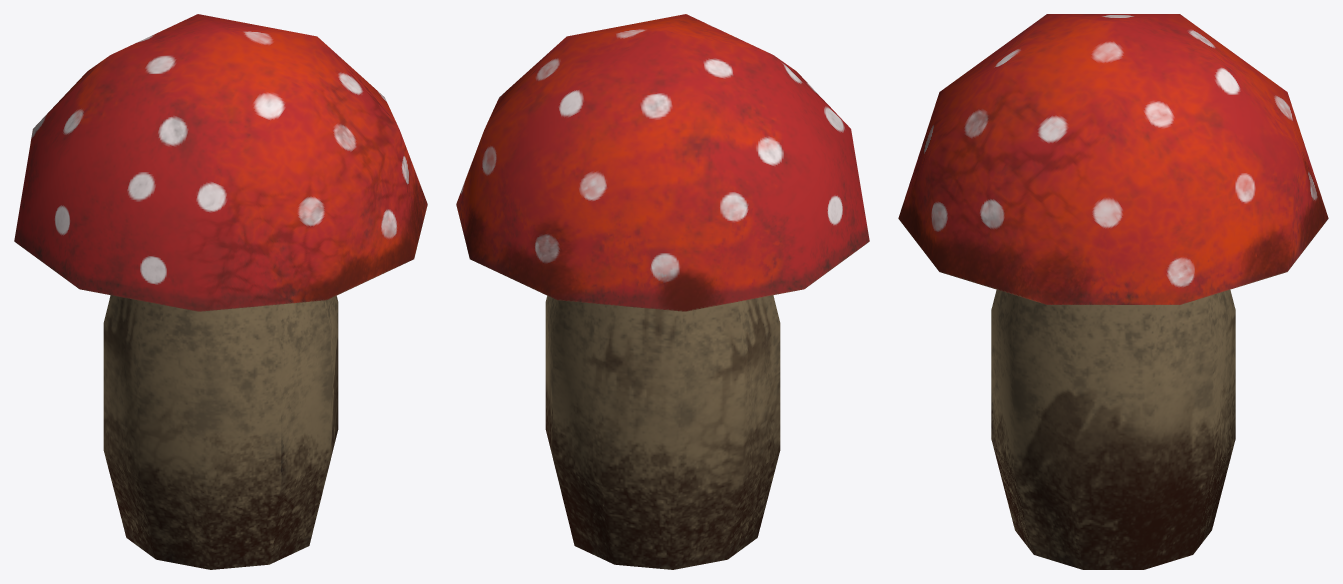
File: mushrooms.fbx
3 renders of one model, left to right at view 1: azimuth 30°, elevation 25°; view 2: azimuth 150°, elevation 25°; view 3: azimuth 270°, elevation 25°, orthographic.
Parts seen in each view (by area): view 1: mushroom; view 2: mushroom; view 3: mushroom.
Boxes of the visible parts, x1,y1,x2,y2 form: mushroom: (14, 14, 427, 569); mushroom: (456, 14, 869, 569); mushroom: (898, 14, 1328, 569).
Bounding box in the file's own units: 47.78 × 65.29 × 50.24.
Materials: 1 (1 with a texture image).
